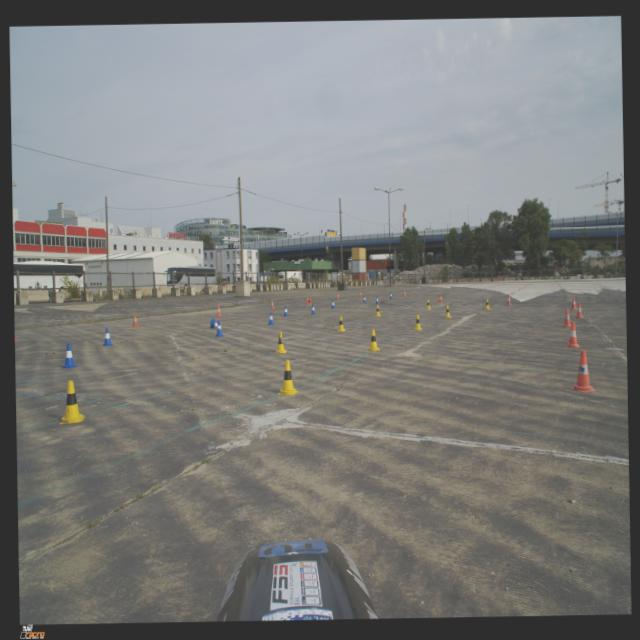blue_cone: (59, 343, 78, 368), (102, 328, 113, 346), (214, 320, 223, 337), (210, 317, 218, 328), (267, 312, 274, 324), (283, 305, 289, 316), (310, 303, 316, 314), (330, 300, 335, 308), (374, 296, 379, 304), (362, 294, 366, 302), (389, 292, 392, 298)
orange_cone: (568, 349, 596, 392), (564, 321, 582, 347), (562, 308, 571, 326), (574, 302, 584, 318), (130, 312, 139, 326), (570, 296, 576, 309), (216, 305, 222, 317), (270, 300, 275, 310), (506, 294, 511, 304), (437, 294, 443, 302), (358, 290, 362, 297), (306, 298, 310, 304), (336, 292, 339, 299), (403, 289, 406, 296)
yellow_cone: (58, 380, 85, 424), (276, 359, 298, 395), (366, 328, 380, 351), (274, 330, 287, 352), (412, 314, 422, 330), (336, 315, 345, 331), (444, 305, 452, 318), (374, 304, 381, 316), (483, 298, 490, 309), (424, 299, 430, 309)
